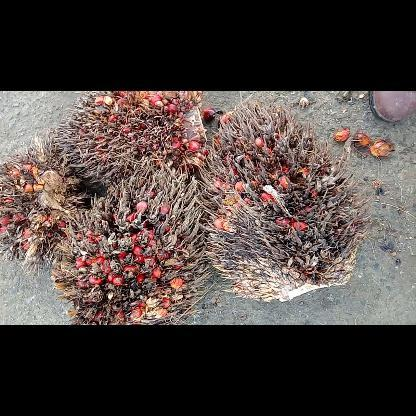Terlalu masak: (196, 98, 378, 306), (46, 176, 216, 324), (50, 90, 214, 196), (0, 132, 98, 282)
